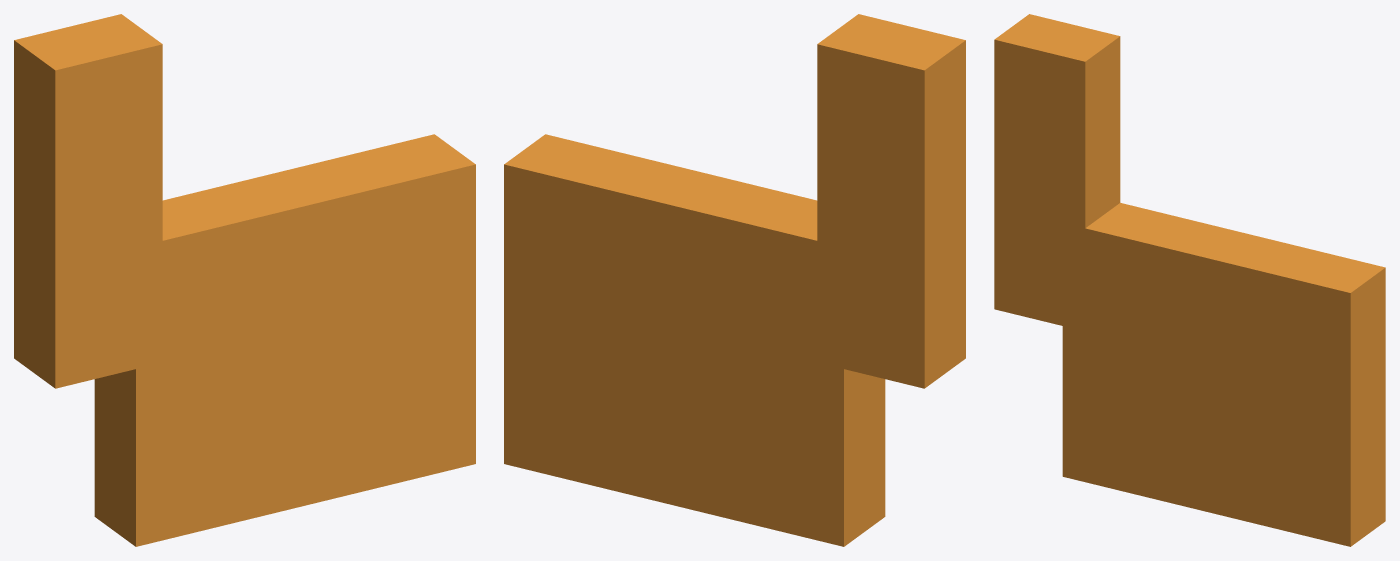
File: thumbup.glb
3 renders of one model, left to right at view 1: azimuth 30°, elevation 25°; view 2: azimuth 150°, elevation 25°; view 3: azimuth 330°, elevation 25°, orthographic. The views are drawn at different scales.
Visible parts, largest first — view 1: thumbup; view 2: thumbup; view 3: thumbup.
Boxes of the visible parts, box(x1,y1,x2,y2) form: thumbup: box(14, 14, 475, 546); thumbup: box(504, 14, 965, 546); thumbup: box(994, 14, 1385, 546).
Bounding box in the file's own units: 0.47 × 0.53 × 0.08.
1 material, 1 textured.
